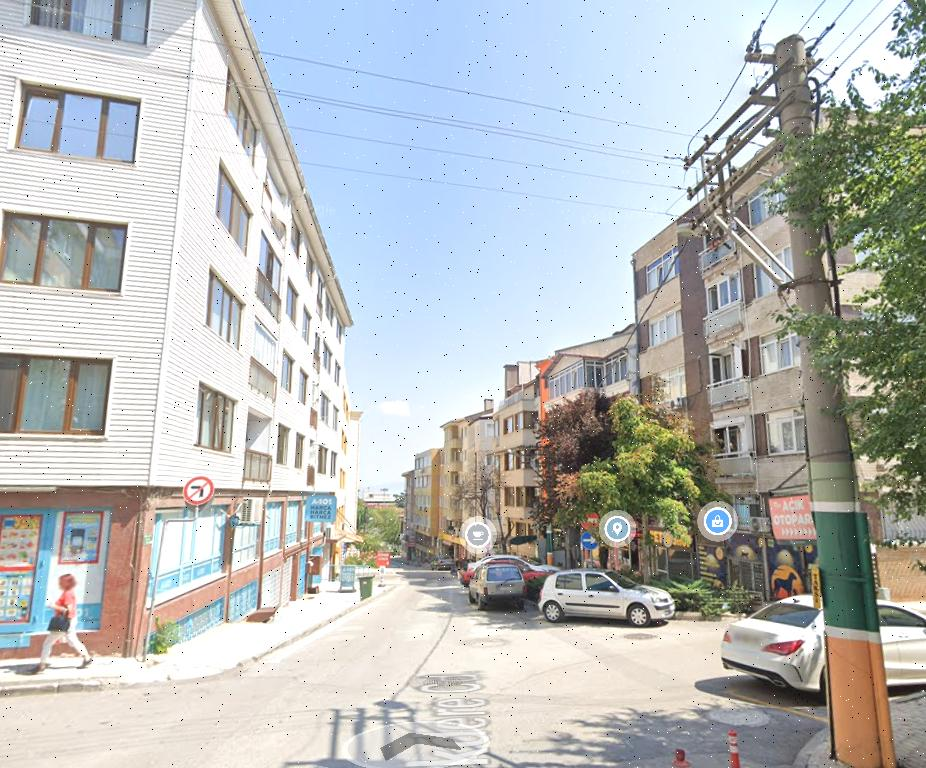leftturnsareforbidden: (186, 477, 213, 505)
turnright: (582, 531, 599, 550)
